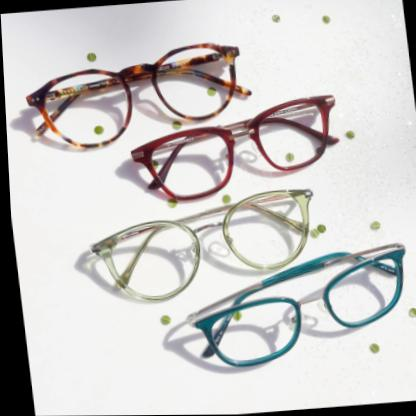Spectacles: (169, 240, 415, 374), (74, 185, 323, 310), (15, 38, 254, 156), (121, 92, 344, 205)
